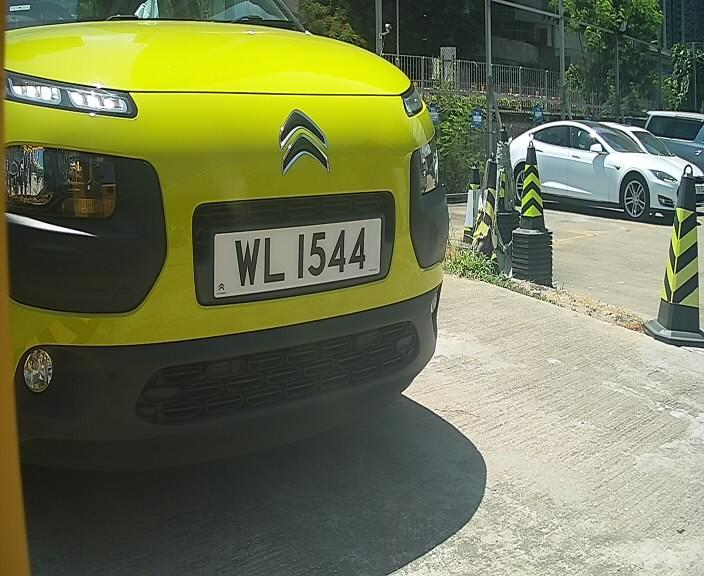privatecar: (2, 5, 461, 478)
